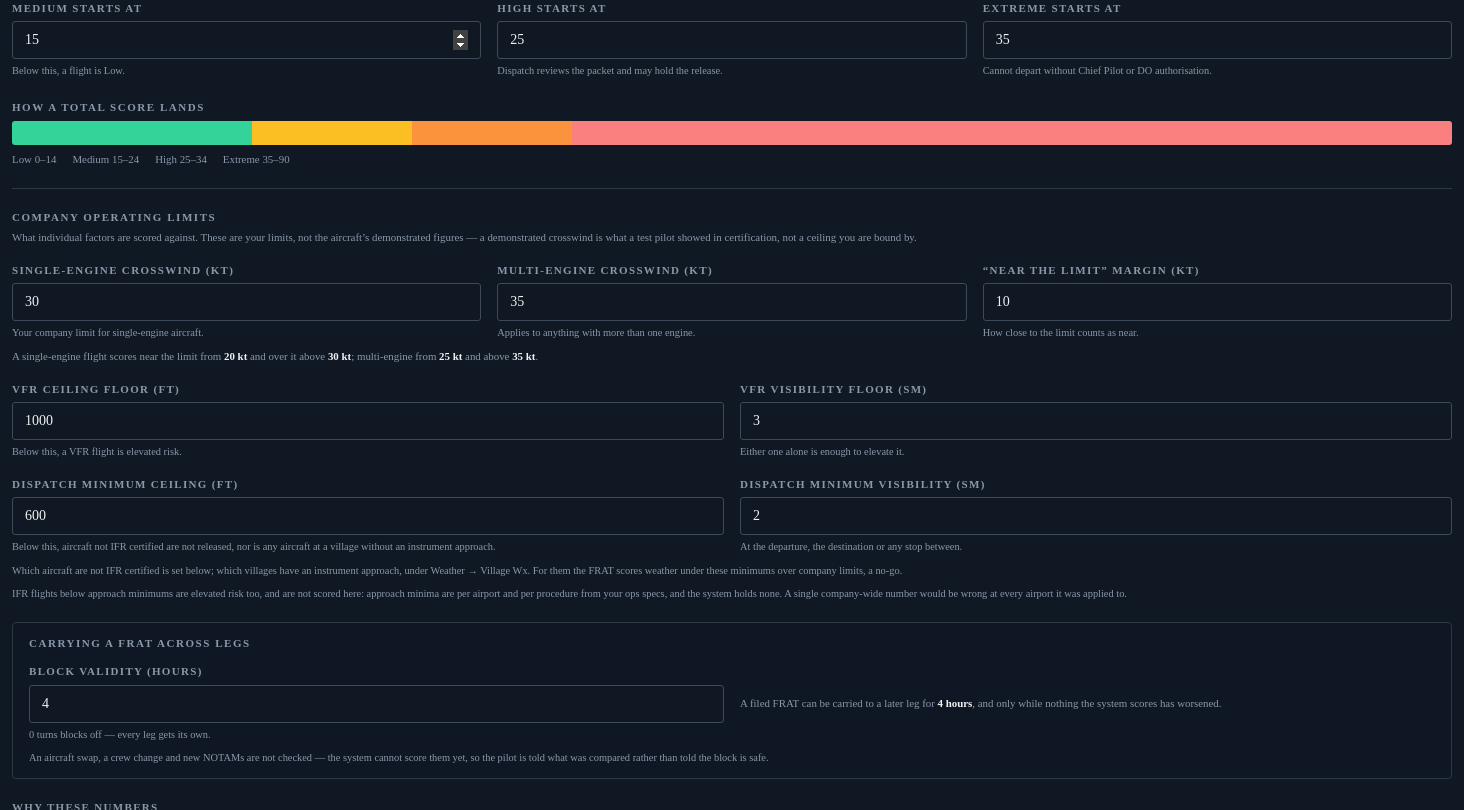
block validity › will not save more than a day
Step 1. Replace the text in the number field labelled "Block validity (hours)" with "25" → (376, 704), box [29,685,724,723]
(page scrolled)
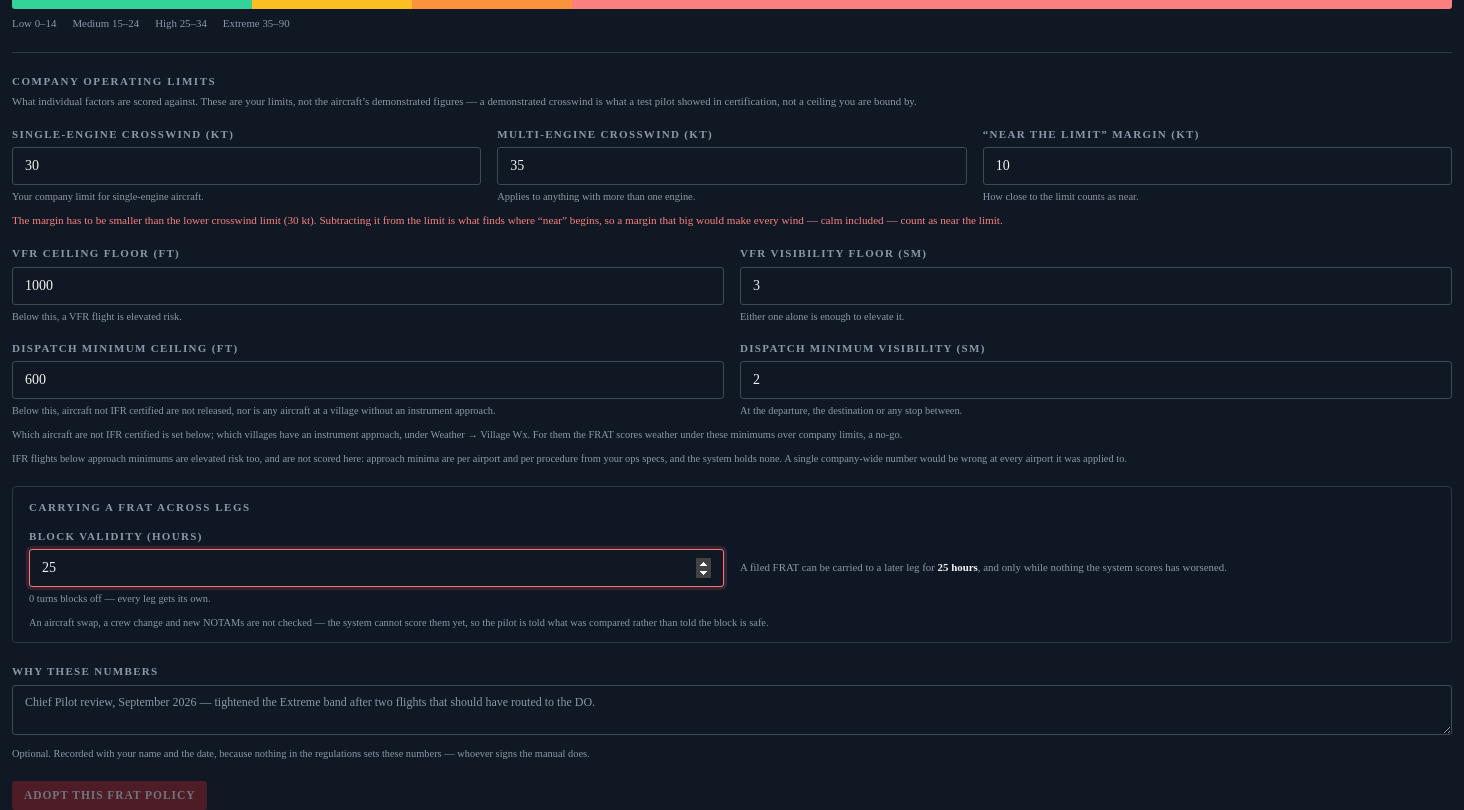
Expected: the button "Adopt this FRAT policy" is disabled, [12,781,207,809]
